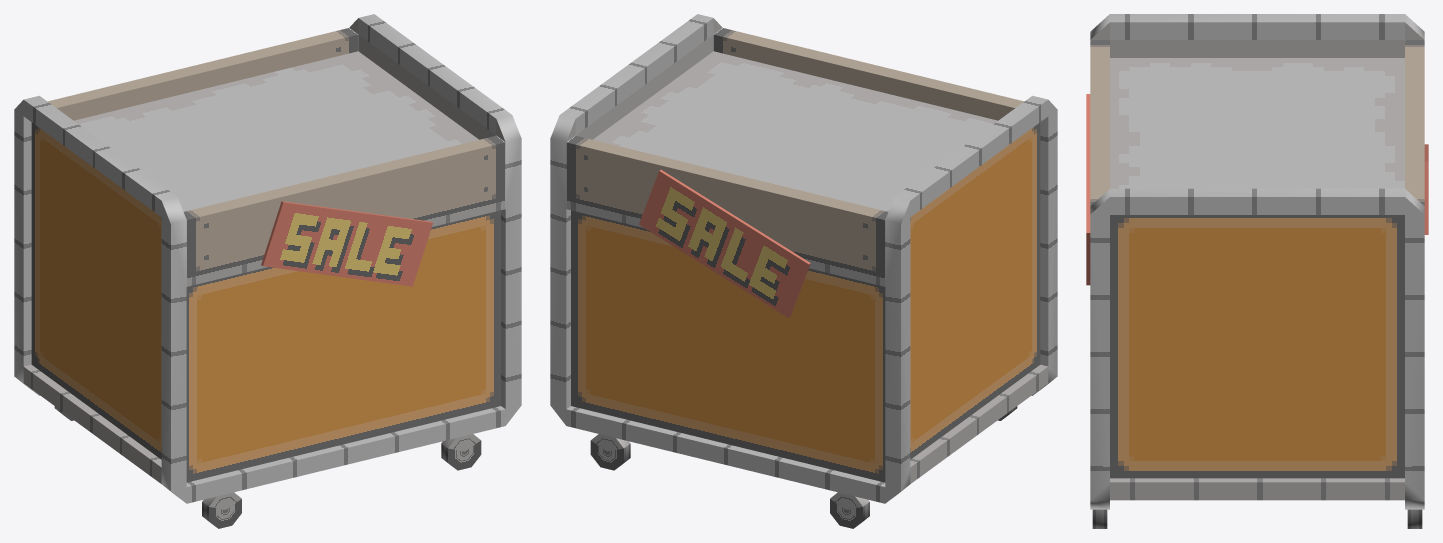
Rendered from 027f_Sale_Cart.glb.
3 views of the same model, side by side, from view 1: azimuth 30°, elevation 25°; view 2: azimuth 150°, elevation 25°; view 3: azimuth 270°, elevation 25° (orthographic). The views are drawn at different scales.
Parts seen in each view (by area): view 1: part_0; view 2: part_0; view 3: part_0.
Part boxes in pixels (x1,y1,x2,y2): part_0: [14, 14, 521, 528]; part_0: [550, 14, 1057, 528]; part_0: [1086, 14, 1428, 528].
Size of the model in its own units: 0.9625 by 0.8767 by 0.7613.
Materials: 1 (1 with a texture image).
